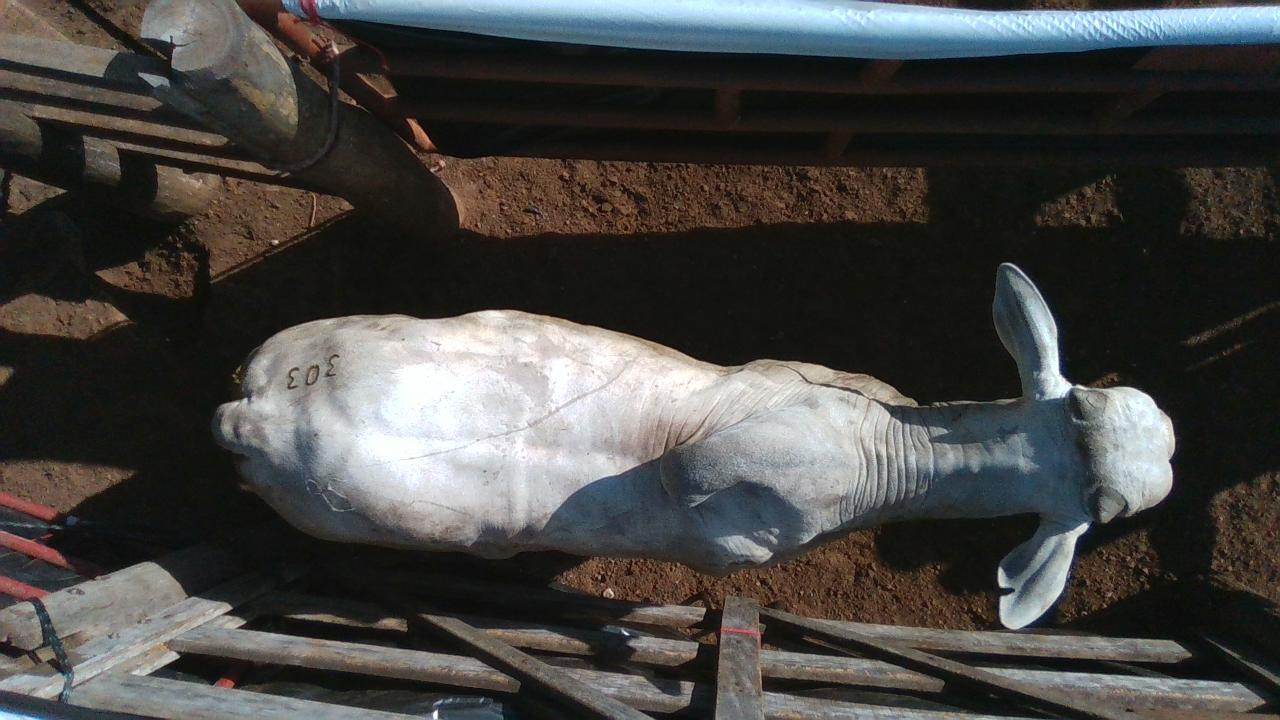cattle: (209, 260, 1177, 629)
